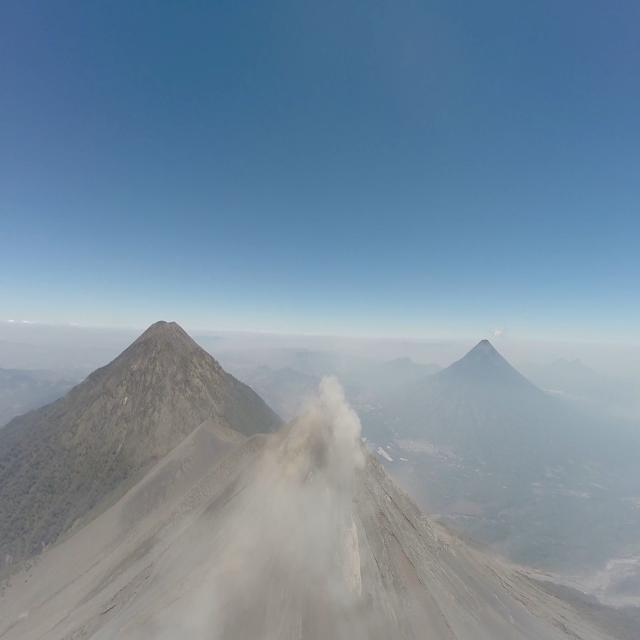Plume: (188, 437, 372, 640), (307, 368, 370, 482)
Summit: (252, 404, 394, 640)
